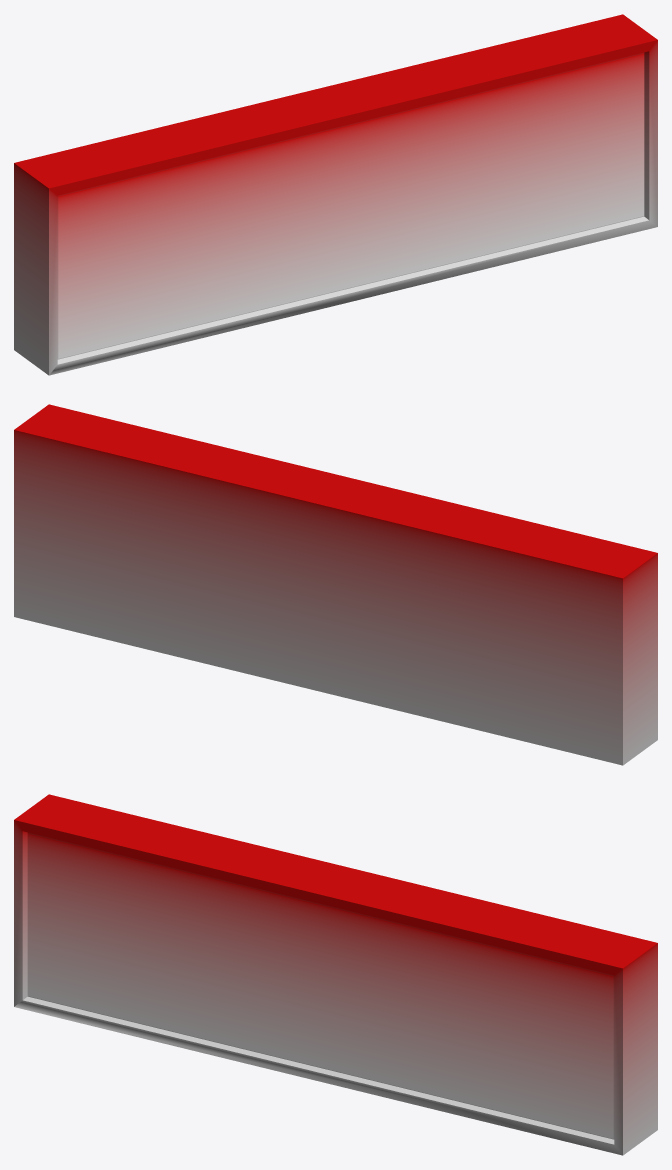
Rendered from SM_Banner13.FBX.
3 views of the same model, one above another, from view 1: azimuth 30°, elevation 25°; view 2: azimuth 150°, elevation 25°; view 3: azimuth 330°, elevation 25° (orthographic).
Parts seen in each view (by area): view 1: SM_Banner13_LOD0; view 2: SM_Banner13_LOD0; view 3: SM_Banner13_LOD0.
Part boxes in pixels (x1,y1,x2,y2): SM_Banner13_LOD0: (14, 14, 657, 375); SM_Banner13_LOD0: (14, 404, 657, 765); SM_Banner13_LOD0: (14, 794, 657, 1155).
Size of what is drawn, in the model's own units: 194 by 56.84 by 19.24.
